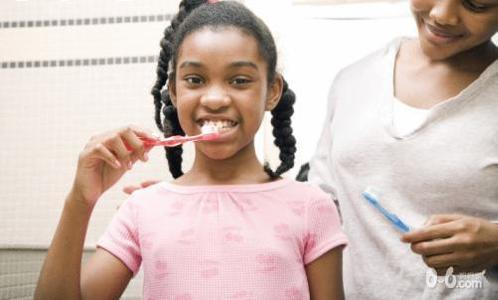person: (32, 2, 347, 299)
